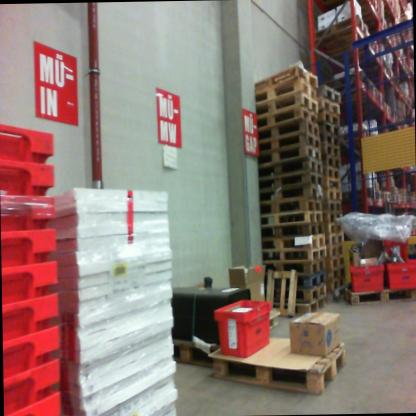pallet: (206, 321, 354, 390), (311, 13, 369, 55), (252, 62, 321, 96), (311, 64, 373, 97), (170, 343, 233, 375), (259, 270, 299, 317), (258, 141, 321, 168), (251, 79, 319, 104), (253, 115, 320, 140), (254, 86, 316, 112), (258, 167, 324, 191), (345, 281, 416, 303), (259, 196, 322, 218), (255, 132, 322, 150), (255, 105, 318, 124), (261, 219, 324, 238), (261, 233, 326, 251), (259, 182, 326, 199), (264, 244, 326, 262), (260, 156, 319, 174), (335, 187, 383, 209), (259, 208, 323, 224), (287, 298, 328, 320), (264, 257, 325, 271), (292, 268, 325, 287), (292, 286, 328, 302), (316, 83, 341, 105), (317, 97, 341, 117), (319, 257, 347, 274), (319, 107, 340, 125), (326, 266, 346, 284), (318, 120, 339, 137), (321, 143, 342, 159), (325, 243, 345, 259), (325, 233, 345, 249), (327, 277, 348, 291), (325, 224, 343, 240), (323, 155, 342, 170), (320, 132, 339, 147), (325, 200, 342, 216), (325, 213, 344, 227), (323, 178, 341, 192), (323, 165, 341, 179), (382, 189, 392, 205), (324, 192, 342, 200)
small_load_carrier: (207, 290, 280, 363), (5, 355, 67, 414), (6, 315, 59, 373), (2, 115, 57, 160), (6, 260, 60, 300), (3, 225, 60, 262), (1, 159, 57, 194), (6, 191, 56, 225), (341, 256, 384, 292), (6, 299, 60, 326), (12, 392, 67, 416), (382, 258, 416, 291), (382, 233, 410, 263)
